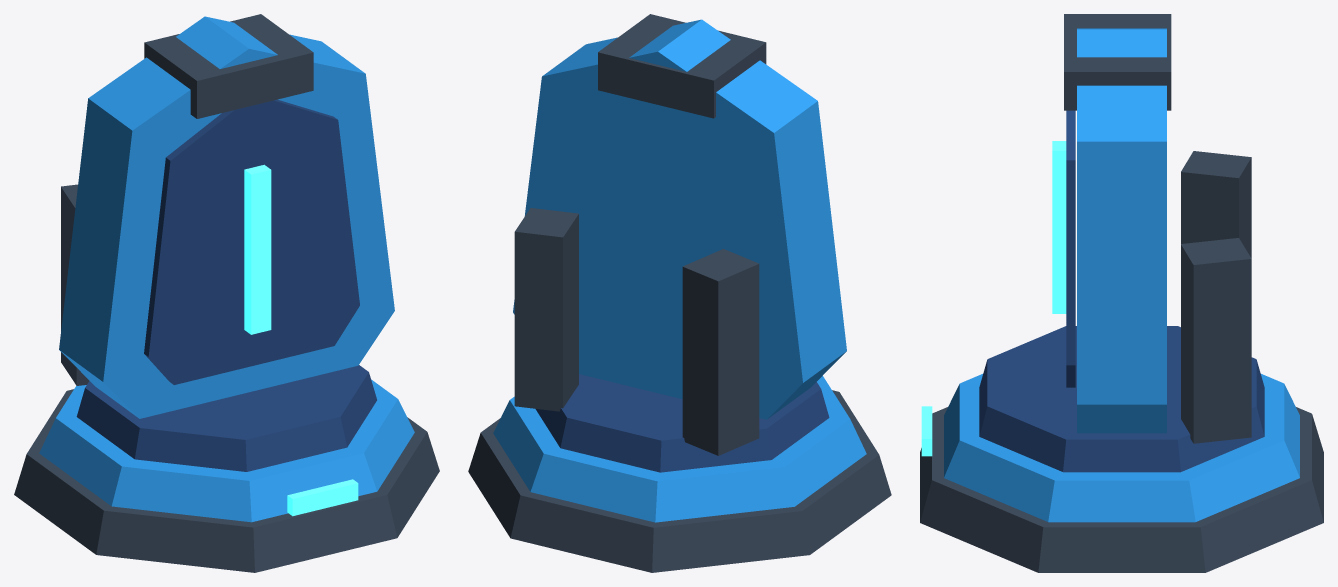
Rendered from shield_blue.glb.
3 renders of one model, left to right at view 1: azimuth 30°, elevation 25°; view 2: azimuth 150°, elevation 25°; view 3: azimuth 270°, elevation 25°, orthographic. The views are drawn at different scales.
Parts seen in each view (by area): view 1: shield_blue_Armor_Plate, shield_blue_Front_Optical_Panel, shield_blue_Base_Lower, shield_blue_Base_Band, shield_blue_Base_Deck, shield_blue_Top_Rail, shield_blue_Front_Slit, shield_blue_Rear_Brace_Left, shield_blue_Status_Light; view 2: shield_blue_Armor_Plate, shield_blue_Base_Lower, shield_blue_Base_Band, shield_blue_Rear_Brace_Left, shield_blue_Base_Deck, shield_blue_Rear_Brace_Right, shield_blue_Top_Rail; view 3: shield_blue_Armor_Plate, shield_blue_Base_Lower, shield_blue_Base_Band, shield_blue_Base_Deck, shield_blue_Rear_Brace_Right, shield_blue_Rear_Brace_Left, shield_blue_Top_Rail, shield_blue_Front_Optical_Panel, shield_blue_Front_Slit, shield_blue_Status_Light.
Part boxes in pixels (x1,y1,x2,y2): shield_blue_Armor_Plate: [59, 16, 394, 418]; shield_blue_Front_Optical_Panel: [144, 99, 359, 384]; shield_blue_Base_Lower: [14, 389, 439, 572]; shield_blue_Base_Band: [39, 379, 414, 522]; shield_blue_Base_Deck: [76, 365, 376, 471]; shield_blue_Top_Rail: [144, 14, 313, 118]; shield_blue_Front_Slit: [244, 164, 271, 334]; shield_blue_Rear_Brace_Left: [61, 184, 89, 385]; shield_blue_Status_Light: [287, 479, 358, 516]; shield_blue_Armor_Plate: [513, 19, 846, 419]; shield_blue_Base_Lower: [468, 390, 891, 572]; shield_blue_Base_Band: [493, 376, 866, 522]; shield_blue_Rear_Brace_Left: [682, 249, 759, 455]; shield_blue_Base_Deck: [535, 374, 829, 472]; shield_blue_Rear_Brace_Right: [514, 208, 578, 411]; shield_blue_Top_Rail: [598, 14, 766, 118]; shield_blue_Armor_Plate: [1077, 28, 1166, 433]; shield_blue_Base_Lower: [920, 407, 1323, 572]; shield_blue_Base_Band: [944, 374, 1299, 522]; shield_blue_Base_Deck: [979, 326, 1264, 472]; shield_blue_Rear_Brace_Right: [1181, 238, 1251, 443]; shield_blue_Rear_Brace_Left: [1181, 151, 1251, 258]; shield_blue_Top_Rail: [1064, 14, 1171, 110]; shield_blue_Front_Optical_Panel: [1066, 110, 1075, 387]; shield_blue_Front_Slit: [1052, 141, 1066, 313]; shield_blue_Status_Light: [921, 406, 932, 456].
Bounding box in the file's own units: 0.9424 × 1.18 × 0.9424.
